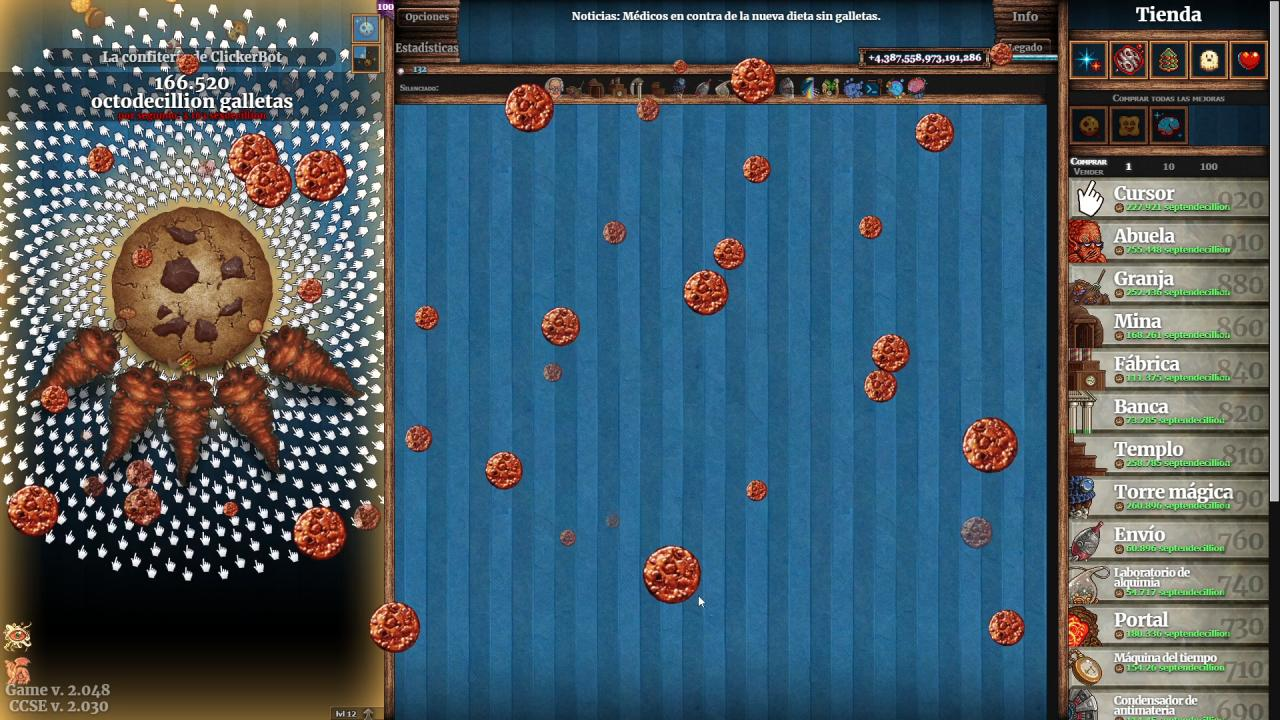RedCookie: (642, 544, 703, 606), (962, 417, 1019, 474), (294, 149, 348, 203), (293, 507, 347, 560), (369, 600, 421, 654), (7, 485, 59, 538), (504, 82, 556, 134), (228, 132, 280, 182), (244, 160, 293, 208), (683, 269, 730, 317), (731, 56, 777, 105), (914, 112, 956, 154), (871, 333, 912, 374), (540, 307, 582, 347), (484, 450, 524, 490), (123, 487, 163, 526), (988, 608, 1026, 648), (712, 236, 748, 271), (864, 369, 900, 404), (960, 515, 994, 550), (40, 385, 70, 415), (86, 146, 116, 175), (126, 459, 156, 488), (405, 423, 433, 454), (743, 154, 771, 185), (353, 503, 383, 531), (298, 277, 324, 305), (414, 304, 440, 332), (602, 219, 628, 246), (636, 97, 661, 122), (859, 215, 883, 240), (746, 478, 770, 503), (989, 42, 1013, 66), (178, 53, 200, 76), (132, 246, 154, 269), (542, 361, 564, 384), (83, 476, 105, 498), (197, 159, 217, 179), (559, 530, 577, 548), (672, 58, 689, 75), (605, 513, 621, 530), (223, 502, 239, 518)
